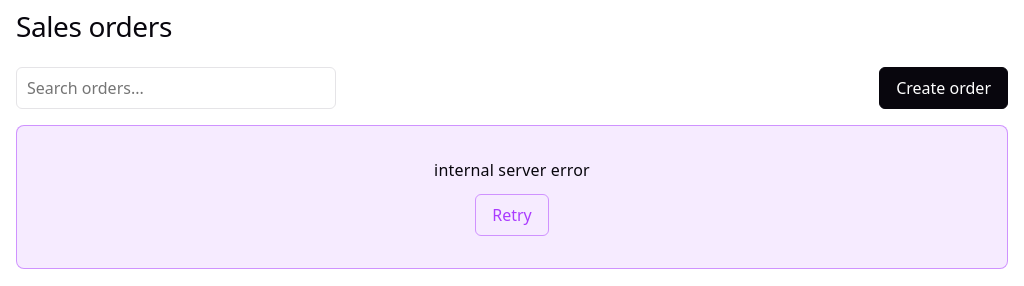
Test case: OrdersPage › shows the backend error and retries on demand
Expected: the text "internal server error" is shown, left=434, top=159, right=590, bottom=181
Click the button "Retry" at (512,215), box left=475, top=194, right=549, bottom=236
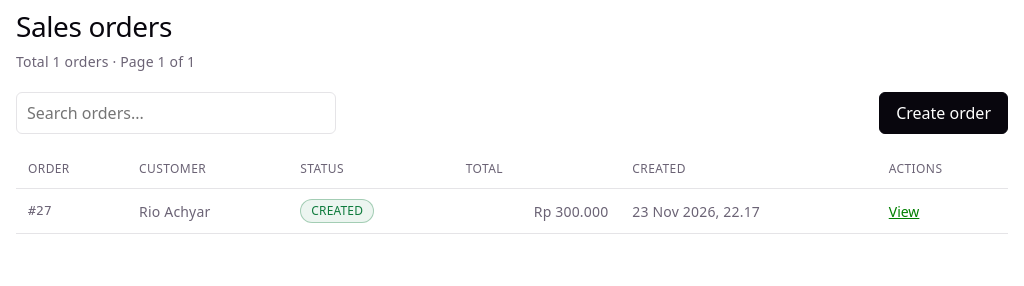
Result: the text "Rio Achyar" is shown at left=127, top=188, right=288, bottom=234
